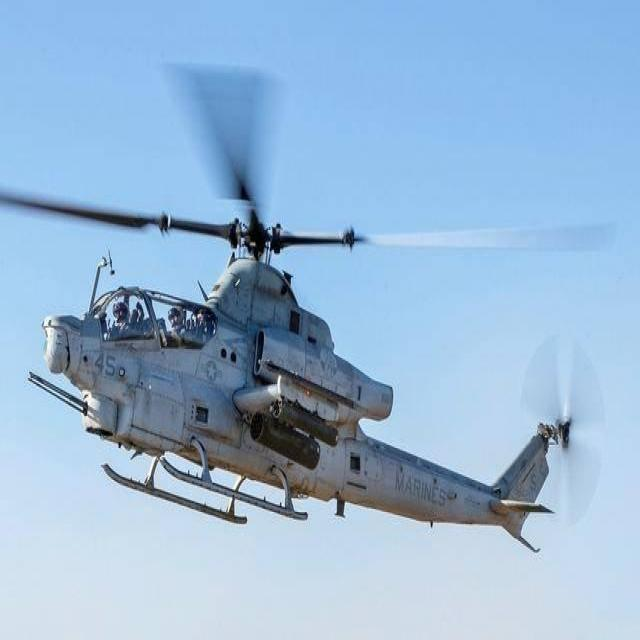MIL_HELO: (0, 47, 640, 583)
